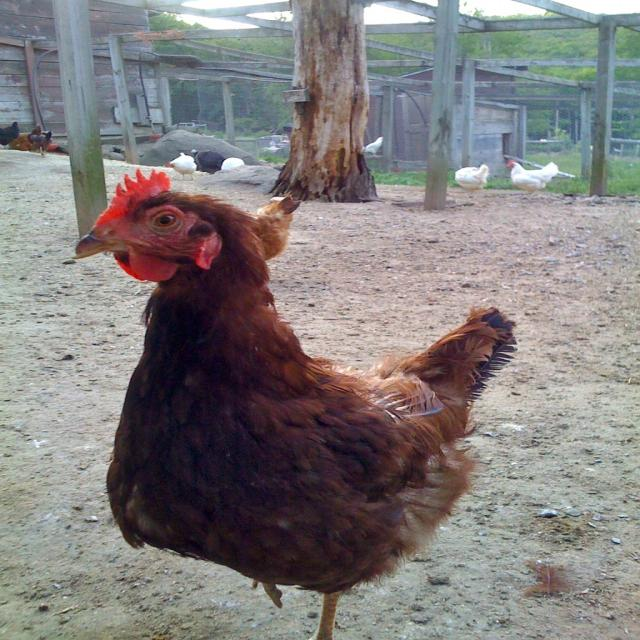Chicken: (68, 165, 518, 640), (506, 157, 559, 200), (453, 165, 488, 198), (26, 124, 55, 157), (166, 150, 196, 181), (0, 122, 21, 150)
